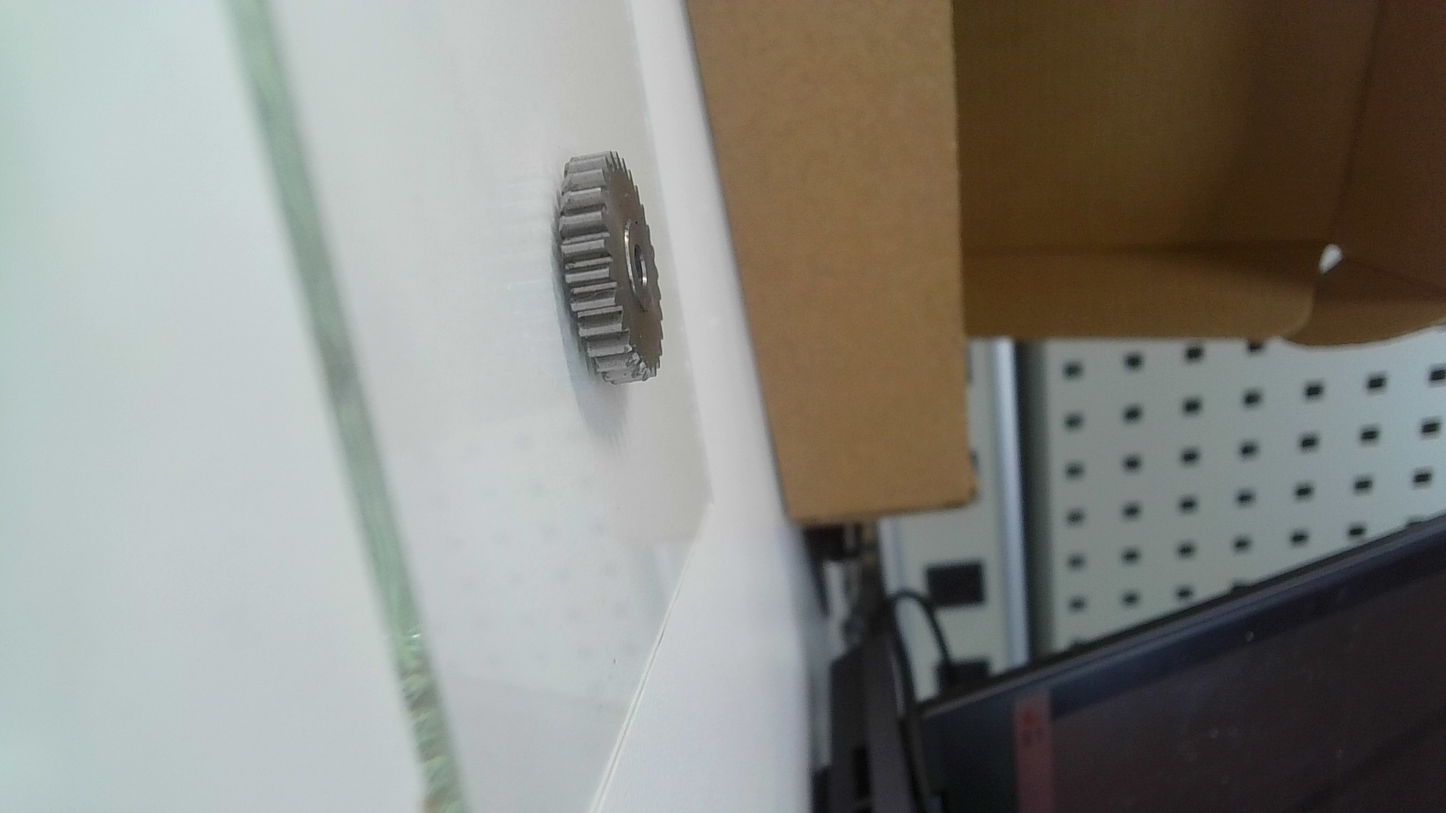gear: (545, 143, 672, 392)
